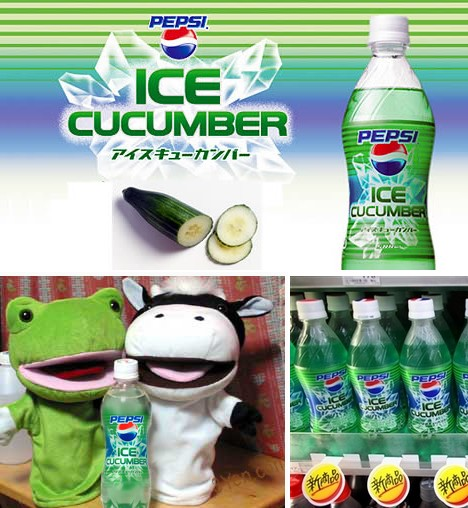pepsi: (159, 22, 195, 58), (370, 136, 405, 171), (417, 376, 439, 396), (117, 420, 137, 440), (364, 377, 382, 394), (323, 375, 341, 391)
